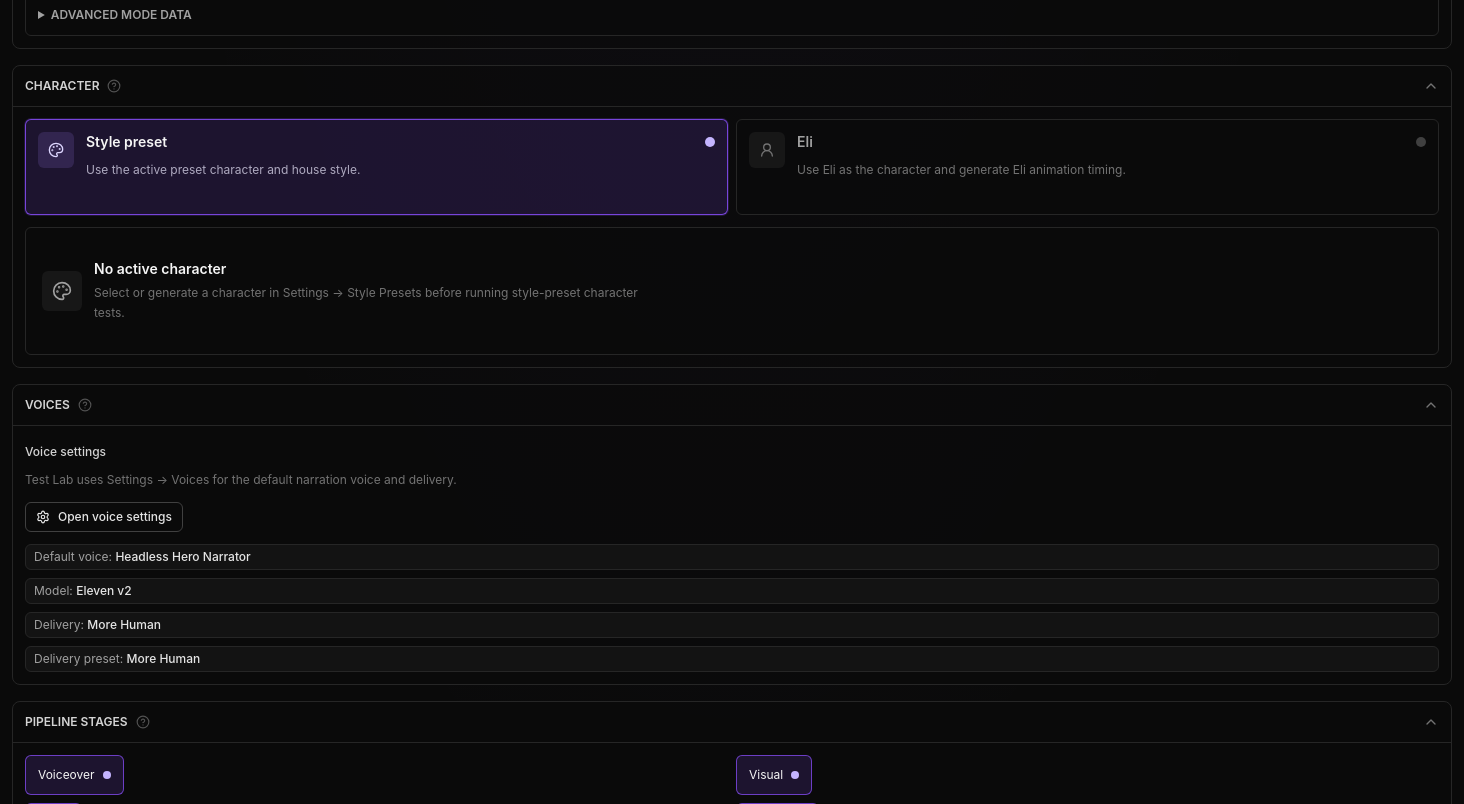
it: TestLabControls layout › collapses sections to a title row
(page scrolled)
Click the button "Voices" at (47, 404), box [13,385,1451,425]
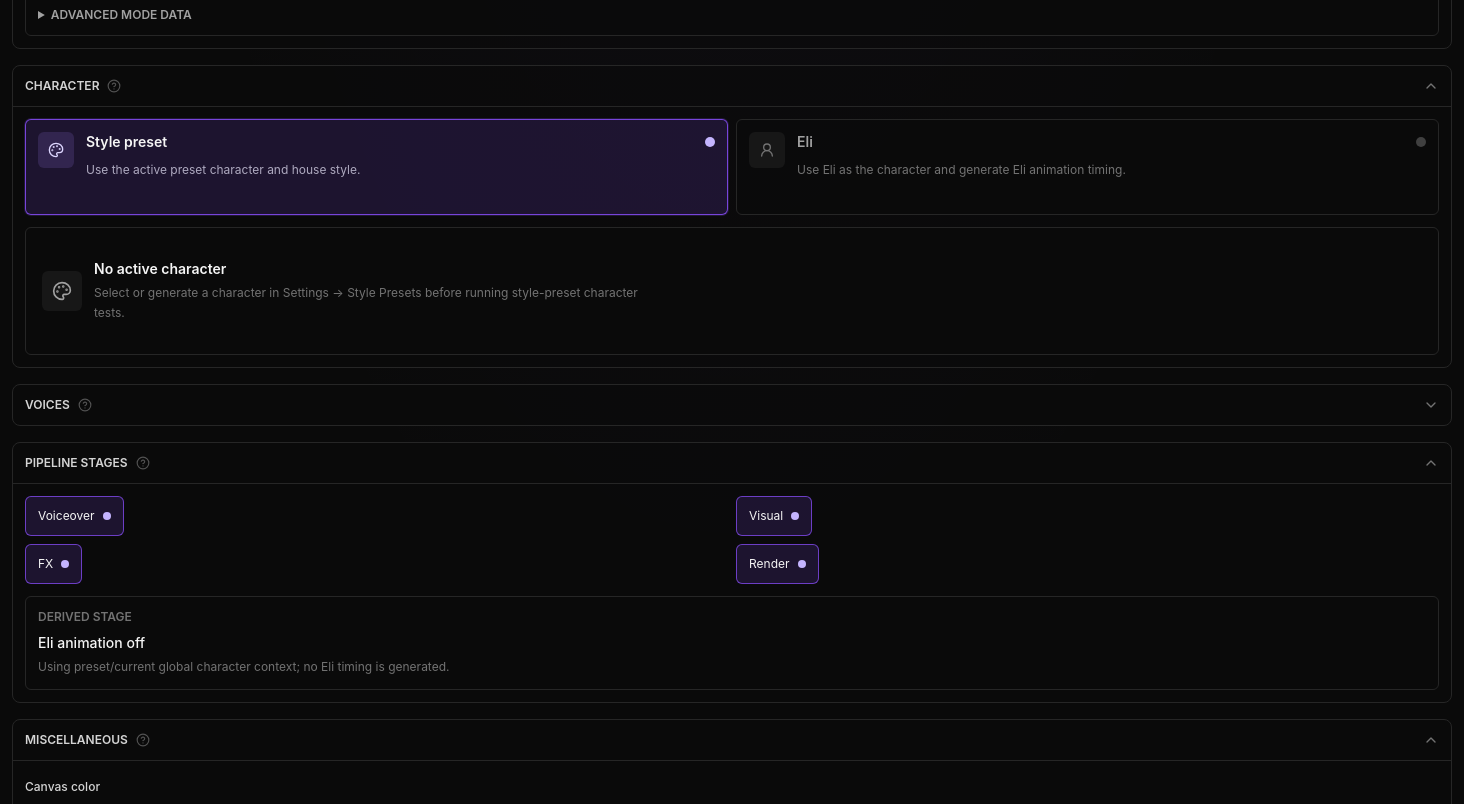
expect the button "Voices" is collapsed: met, box [13,385,1451,425]
expect the text "Headless Hero Narrator" is gone: met
